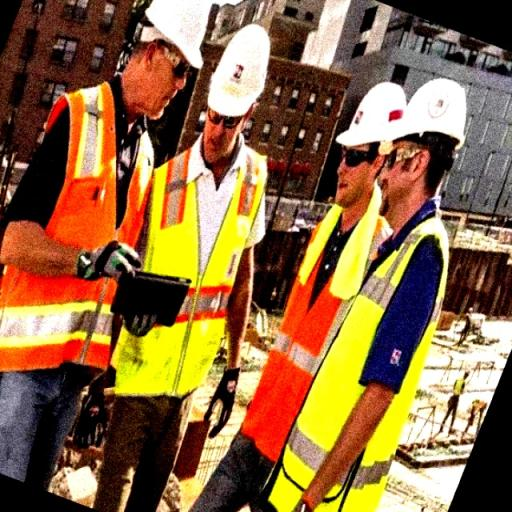Person: (76, 19, 303, 512), (257, 66, 502, 512), (0, 5, 214, 512), (2, 3, 230, 475), (182, 69, 414, 512), (96, 24, 269, 506), (296, 90, 479, 504), (269, 73, 410, 493)
gloves: (74, 373, 120, 449), (207, 364, 246, 438), (78, 242, 140, 281)
goggles: (379, 146, 454, 172), (330, 144, 395, 170), (146, 36, 188, 76), (195, 107, 256, 131)
helmet: (402, 76, 484, 156), (208, 36, 274, 118), (333, 82, 404, 144), (139, 35, 207, 73)
vest: (271, 209, 455, 510), (117, 148, 270, 410), (0, 90, 136, 380), (273, 218, 389, 456)
